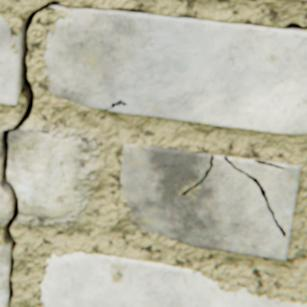brick: (43, 9, 306, 134), (120, 143, 299, 258), (40, 251, 306, 306), (0, 16, 19, 104), (0, 244, 10, 306)
broken_brick: (7, 128, 80, 216), (0, 185, 11, 218), (0, 132, 2, 169)
crack: (0, 1, 95, 306), (222, 156, 284, 235), (180, 154, 212, 195), (253, 159, 284, 168), (104, 99, 126, 110), (281, 22, 306, 30), (110, 8, 148, 13), (179, 15, 198, 19)
